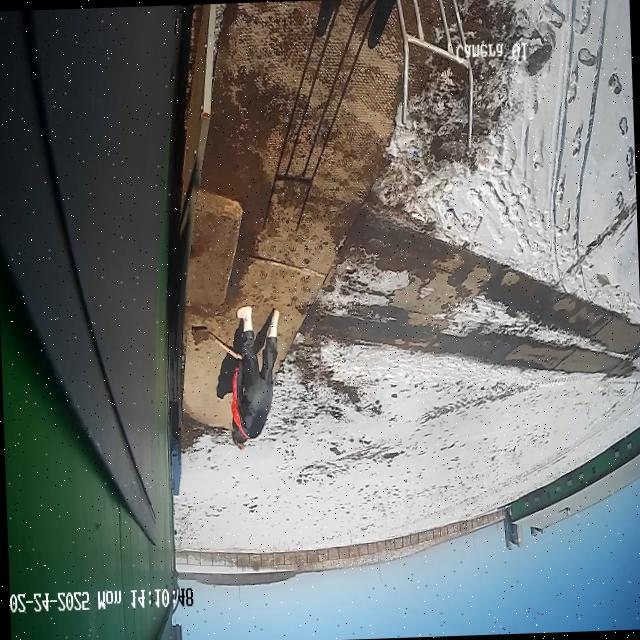Red uniform: (223, 302, 286, 452)
